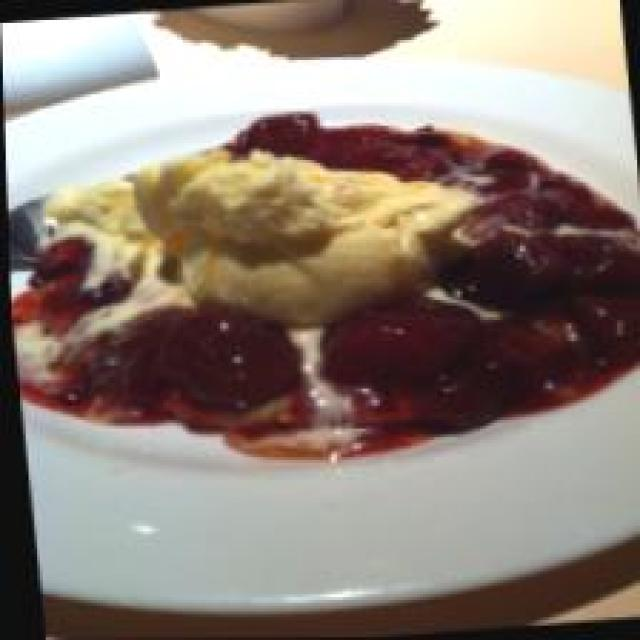Waffles: (3, 92, 640, 474)
